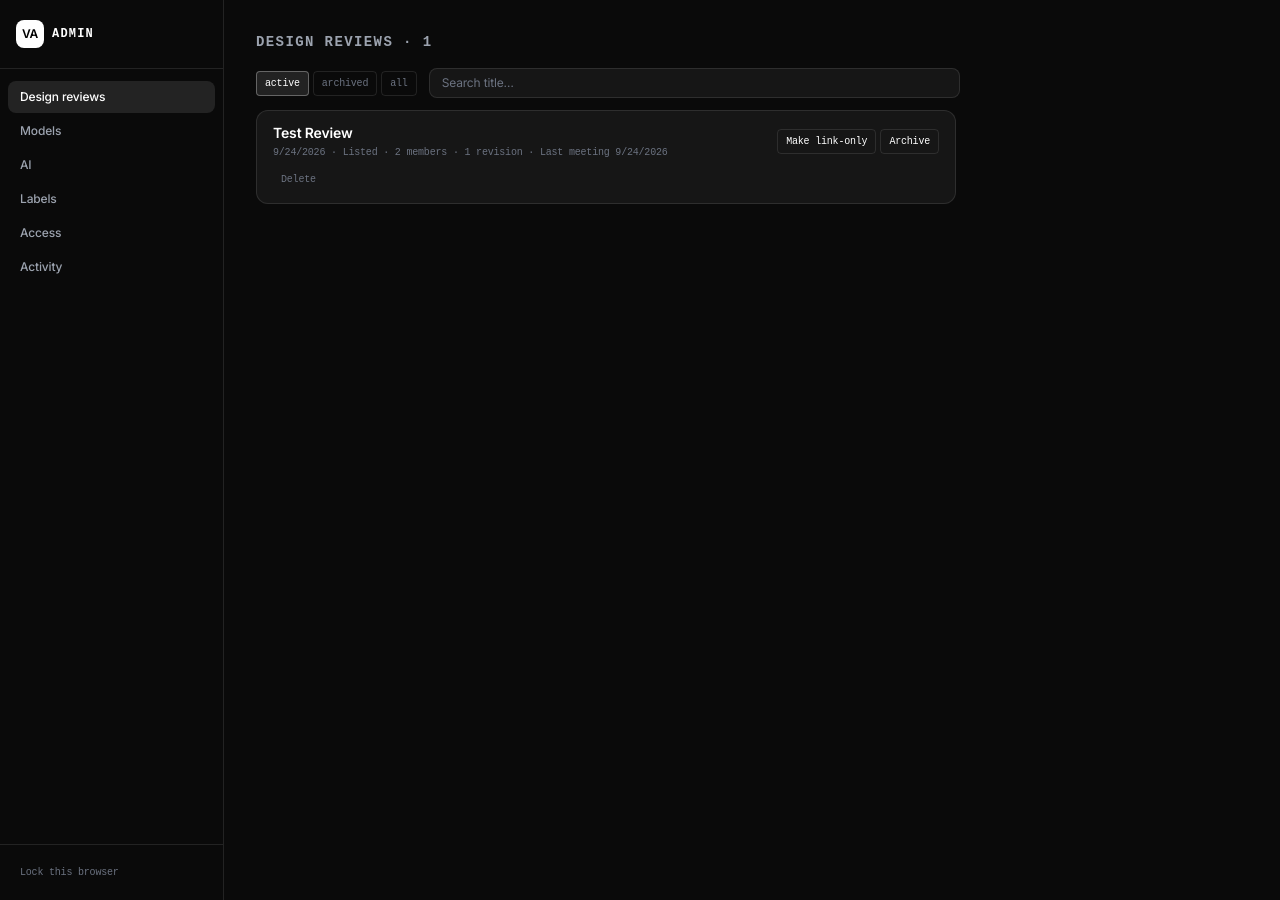
Test: AdminPage › renders the models section when navigated to
Check: the text "Test Review" is shown, box top-left (273, 124), bottom-right (352, 141)
Note: Click the Models section in the sidebar.
Step 1. Click the button "Models" → (112, 131), box top-left (8, 115), bottom-right (215, 147)
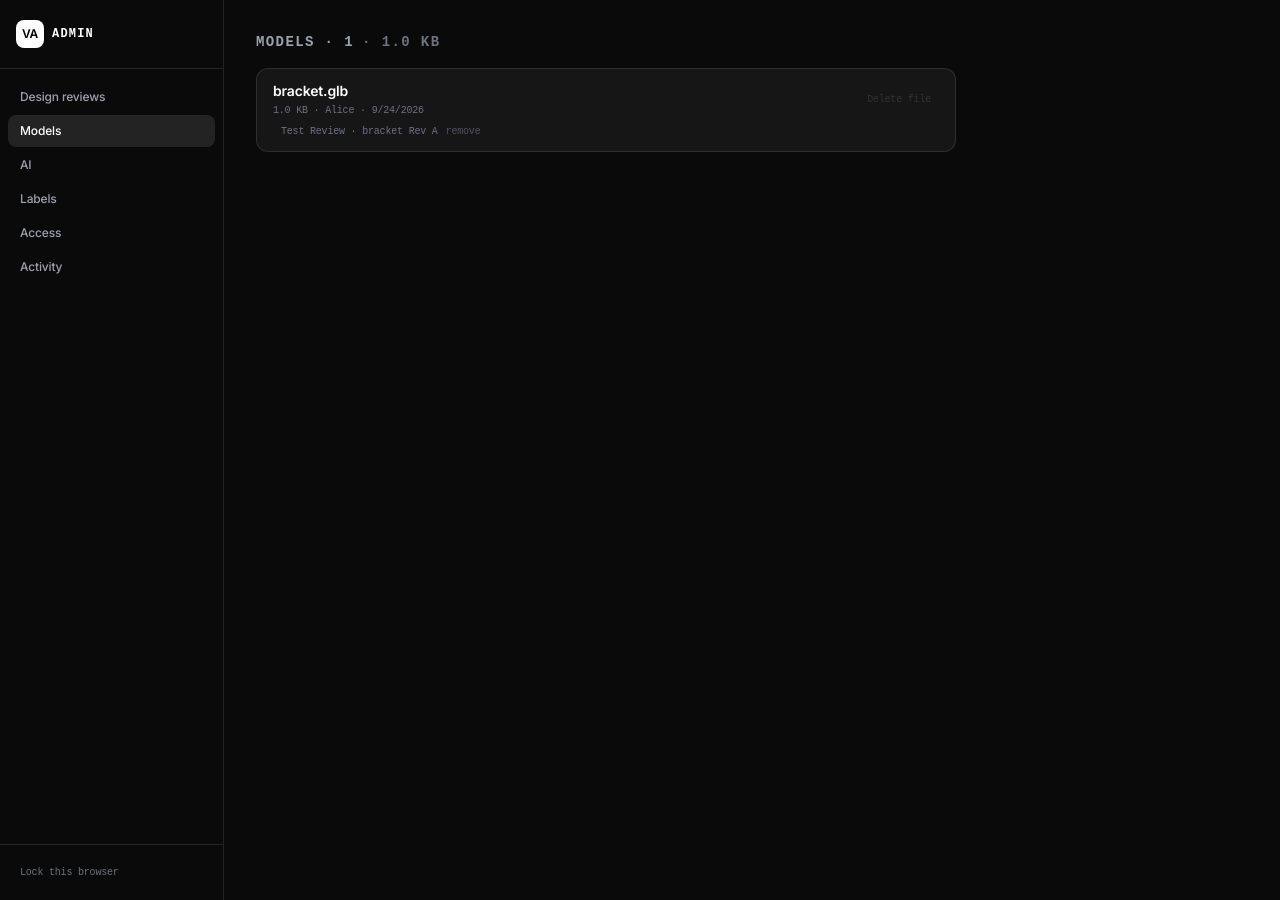
Check: the text "bracket.glb" is shown, box top-left (273, 82), bottom-right (348, 99)
Check: the text "1.0 KB · Alice · 9/24/2026" is shown, box top-left (273, 105), bottom-right (424, 116)
